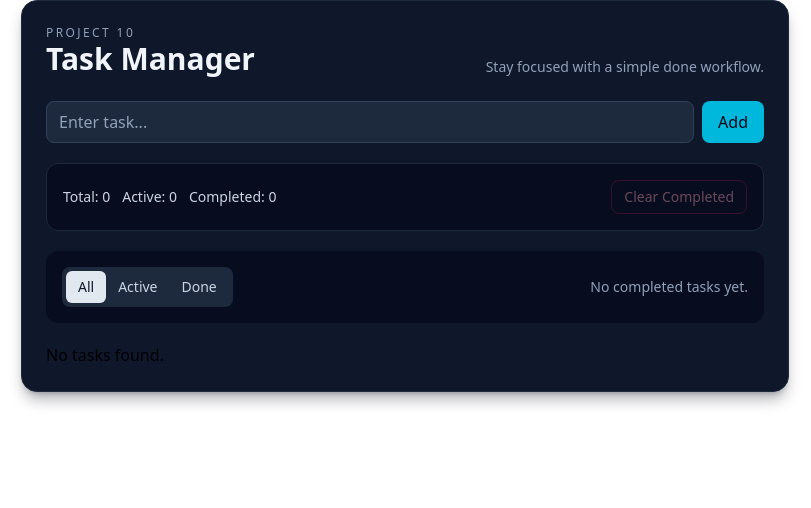
Test: Project 10 spec requirements › R2/R3/R4/R5: toggles, deletes, filters, and keeps stats in sync
This screenshot has width=811, height=508.
Type "Task A" into the field with placeholder "Enter task..." at (370, 122), box [46,101,694,143]
Click the button "Add" at (733, 122), box [702,101,764,143]
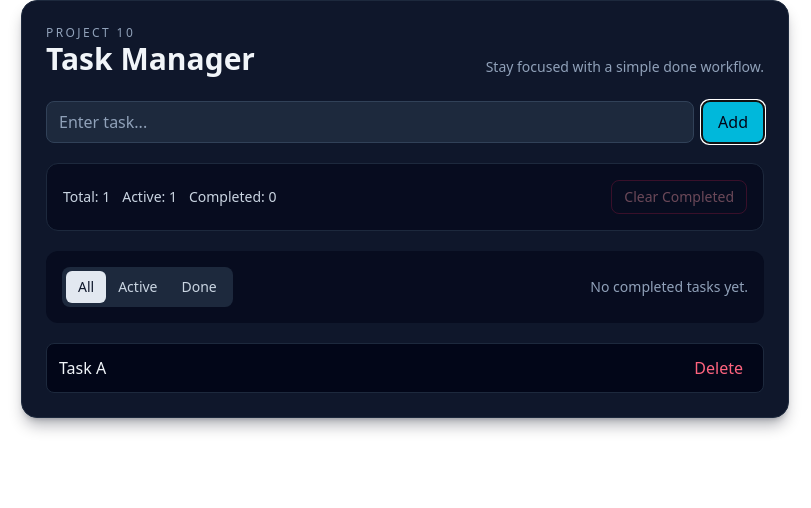
Type "Task B" into the field with placeholder "Enter task..." at (370, 122), box [46,101,694,143]
Click the button "Add" at (733, 122), box [702,101,764,143]
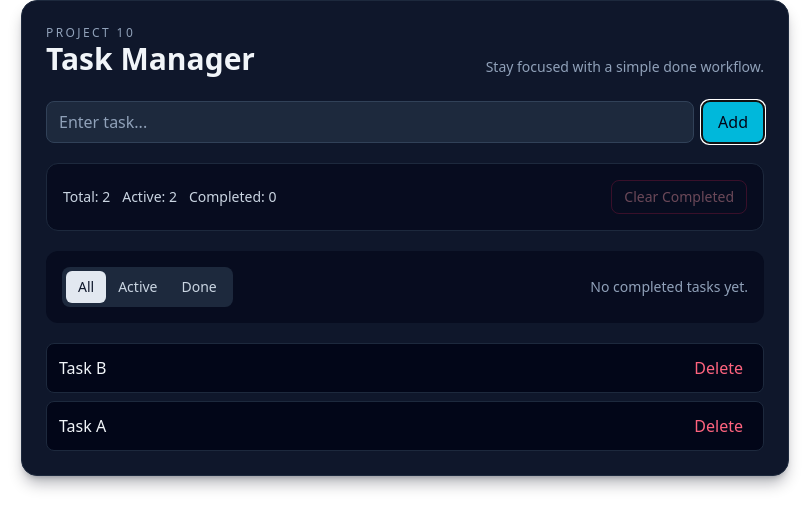
expect the text "Completed: 0" is shown: met, box [189,187,276,207]
expect the text "Total: 2" is shown: met, box [63,187,110,207]
expect the text "Active: 2" is shown: met, box [122,187,177,207]
Click the text "Task A" at (83, 426), box [59,414,106,438]
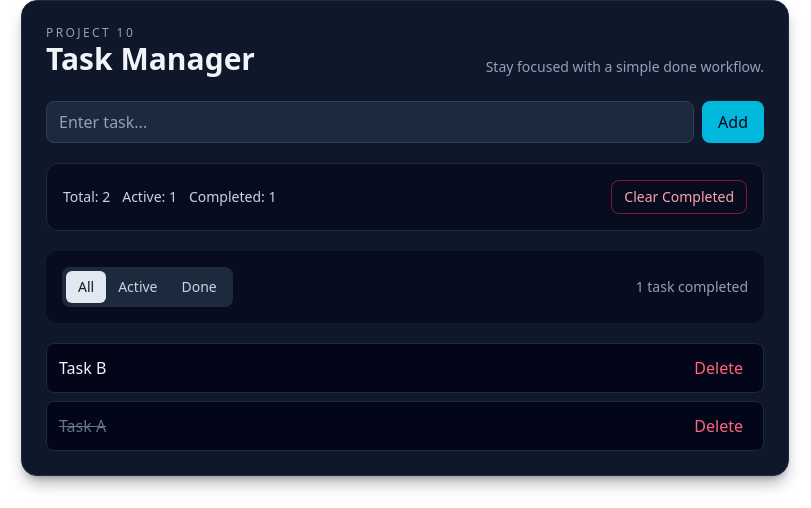
expect the text "Completed: 1" is shown: met, box [189,187,276,207]
expect the text "Active: 1" is shown: met, box [122,187,177,207]
Click the button "Done" at (199, 287), box [170,271,229,303]
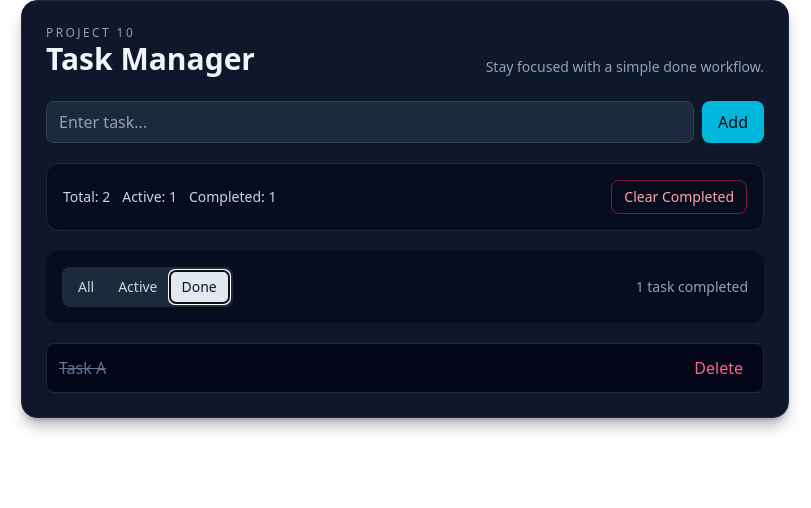
expect the text "Task A" is shown: met, box [59,356,106,380]
expect the text "Task B" is gone: met
Click the button "All" at (86, 287), box [66,271,106,303]
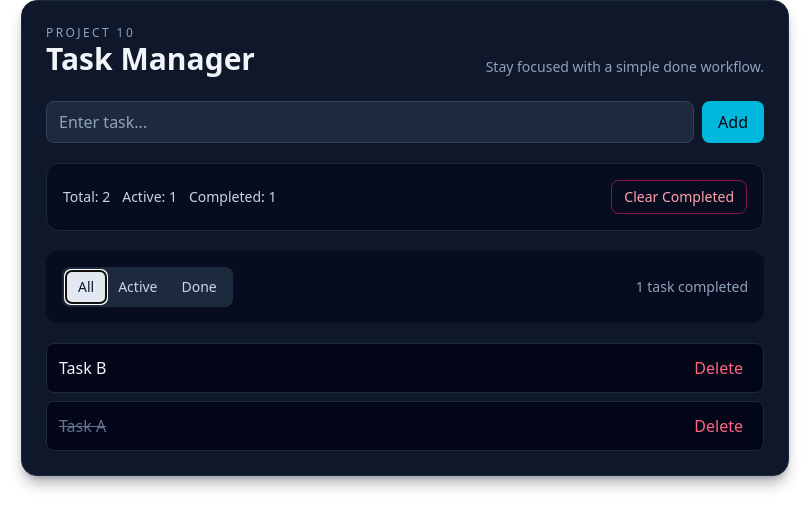
Click the button with aria-label "Delete Task B" at (719, 368), box [686,352,751,384]
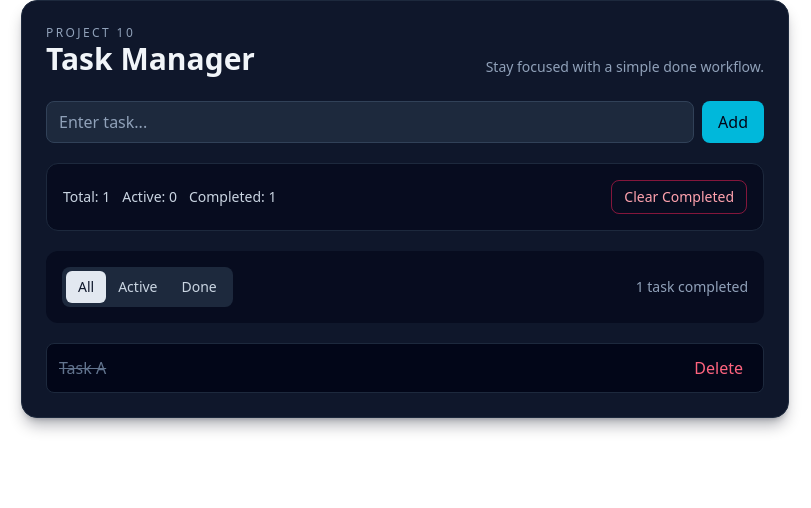
expect the text "Task B" is gone: met
expect the text "Total: 1" is shown: met, box [63,187,110,207]
